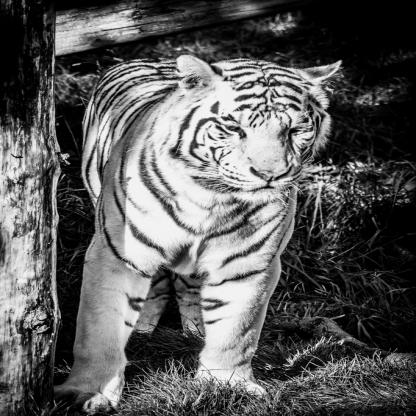tiger: (184, 62, 320, 184)
